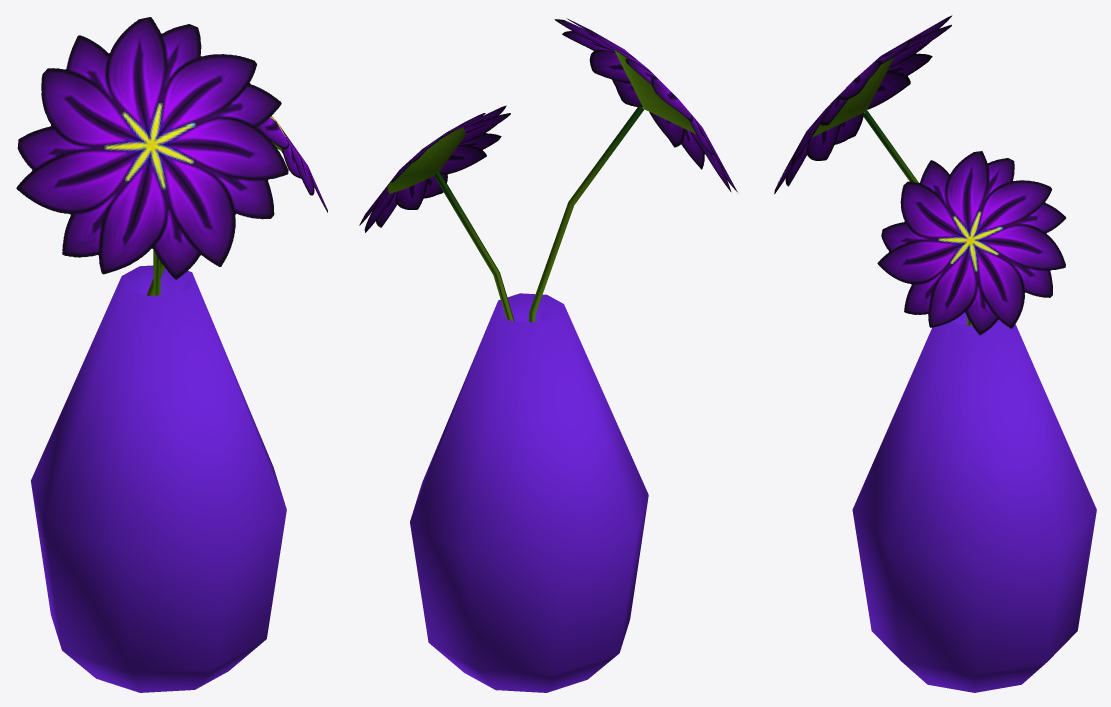
Rendered from Flowers_B_4.FBX.
The picture shows the model from 3 angles, left to right: view 1: azimuth 30°, elevation 25°; view 2: azimuth 150°, elevation 25°; view 3: azimuth 270°, elevation 25°; orthographic projection. The views are drawn at different scales.
Parts seen in each view (by area): view 1: Vase_And_Flowers; view 2: Vase_And_Flowers; view 3: Vase_And_Flowers.
Boxes of the visible parts, x1,y1,x2,y2 form: Vase_And_Flowers: [16, 17, 327, 692]; Vase_And_Flowers: [359, 18, 738, 692]; Vase_And_Flowers: [774, 15, 1096, 692].
Size of the model in its own units: 80.48 by 155 by 73.7.
